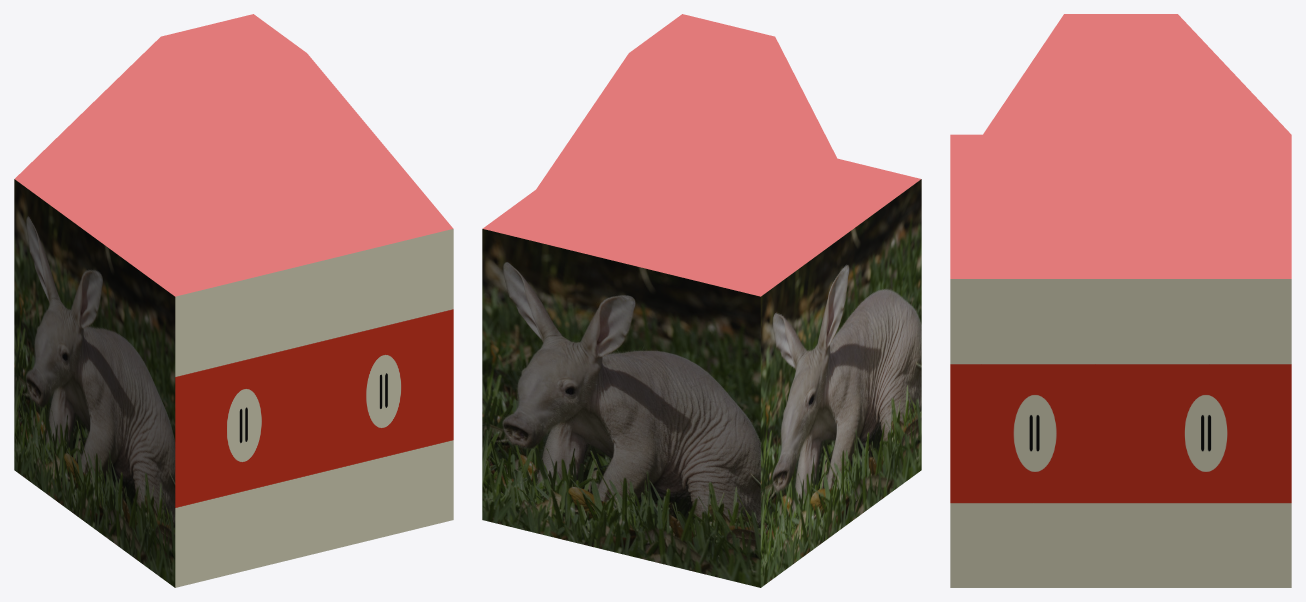
Rendered from tex_transform.gltf.
The picture shows the model from 3 angles, left to right: view 1: azimuth 30°, elevation 25°; view 2: azimuth 150°, elevation 25°; view 3: azimuth 270°, elevation 25°; orthographic projection. The views are drawn at different scales.
Visible parts, largest first — view 1: Box; view 2: Box; view 3: Box.
Part boxes in pixels (x1,y1,x2,y2): Box: (14,14,453,587); Box: (482,14,921,587); Box: (950,14,1291,587).
Bounding box in the file's own units: 1 × 1.55 × 1.
3 materials, 2 textured.
